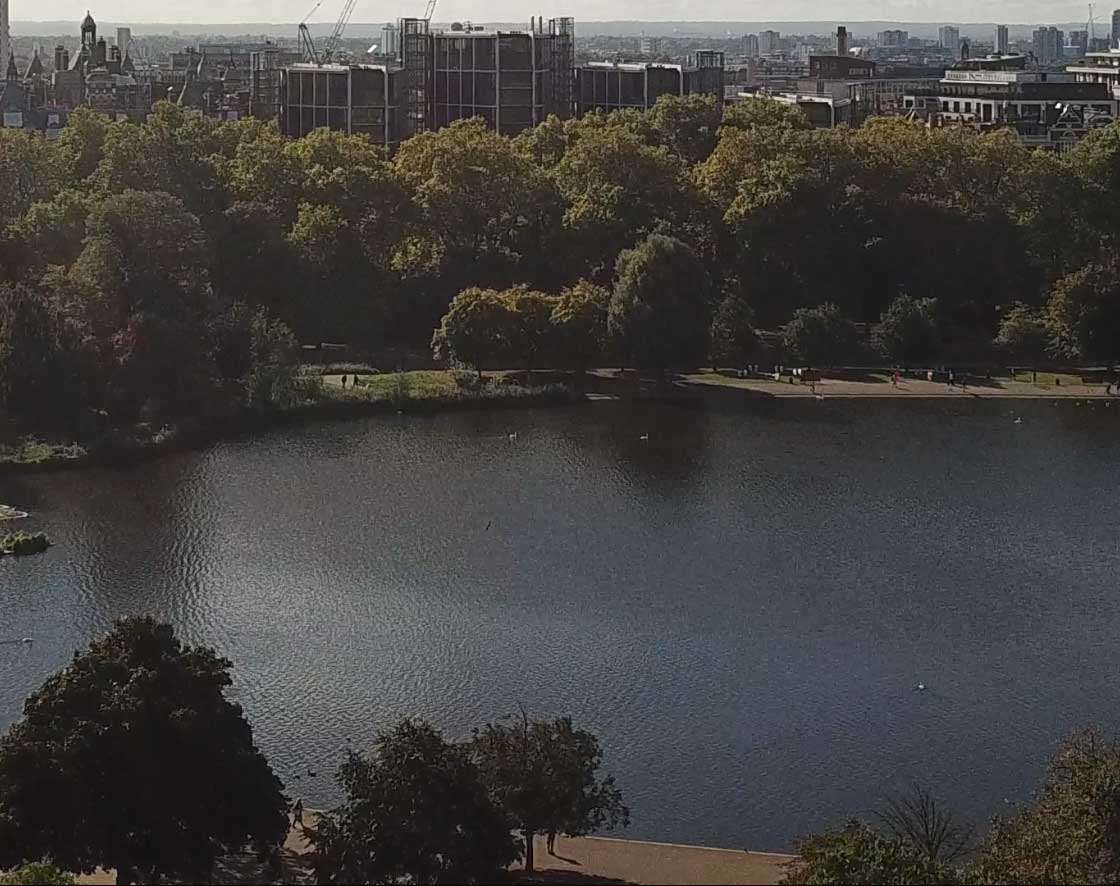building: (271, 23, 736, 127), (798, 47, 1120, 127)
tree: (1, 608, 293, 884), (452, 704, 633, 874)
trees: (22, 133, 1103, 370)
water: (57, 445, 1098, 718), (625, 425, 1015, 777), (367, 528, 570, 618)
